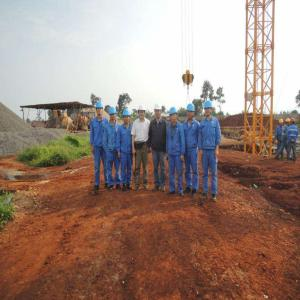blue: (95, 102, 105, 119), (169, 107, 179, 123), (204, 101, 214, 117), (109, 106, 117, 123), (187, 104, 195, 121), (123, 110, 131, 126)
white: (138, 104, 147, 119), (154, 103, 162, 119)
